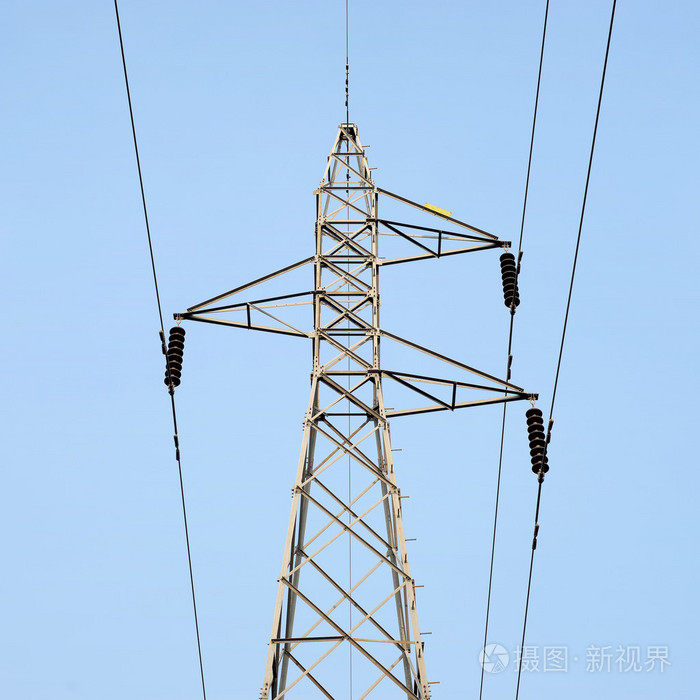insulator: (523, 406, 550, 474), (163, 325, 186, 387), (497, 251, 520, 308)
